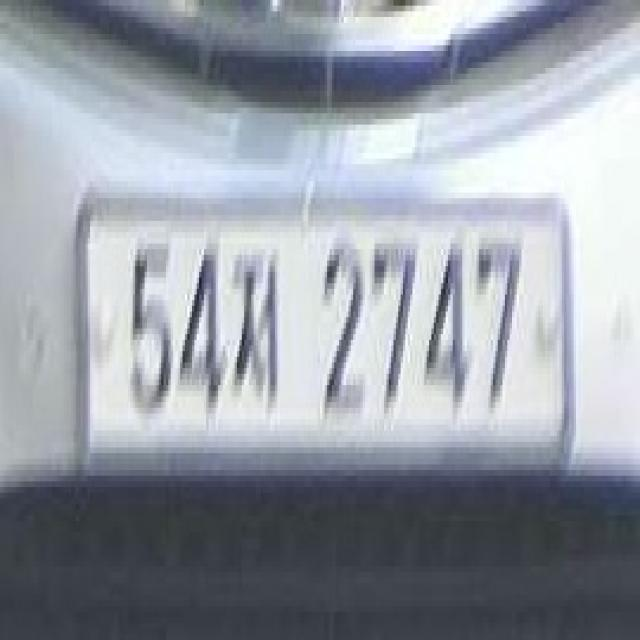2: (315, 226, 365, 424)
4: (419, 204, 472, 425), (171, 232, 225, 408)
5: (118, 210, 176, 430)
7: (476, 238, 528, 419), (372, 221, 417, 413)
jeo: (225, 249, 285, 402)
license_plate: (78, 210, 581, 458)
